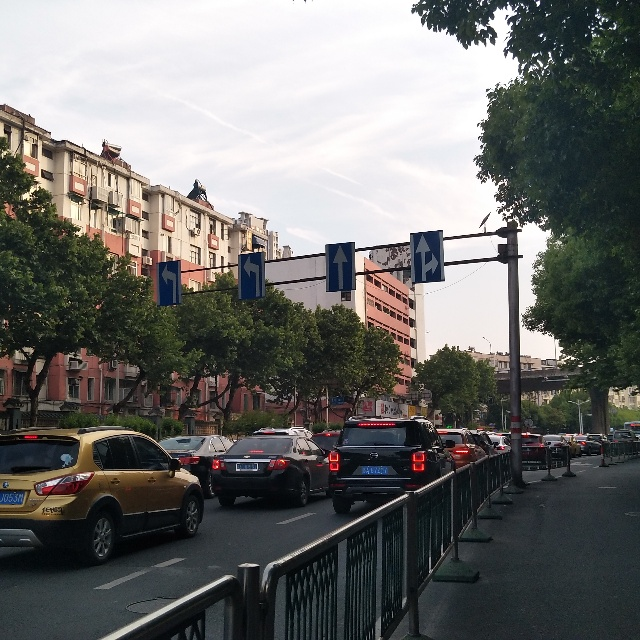left: (235, 248, 271, 306), (153, 258, 185, 308)
straight: (321, 238, 366, 298)
